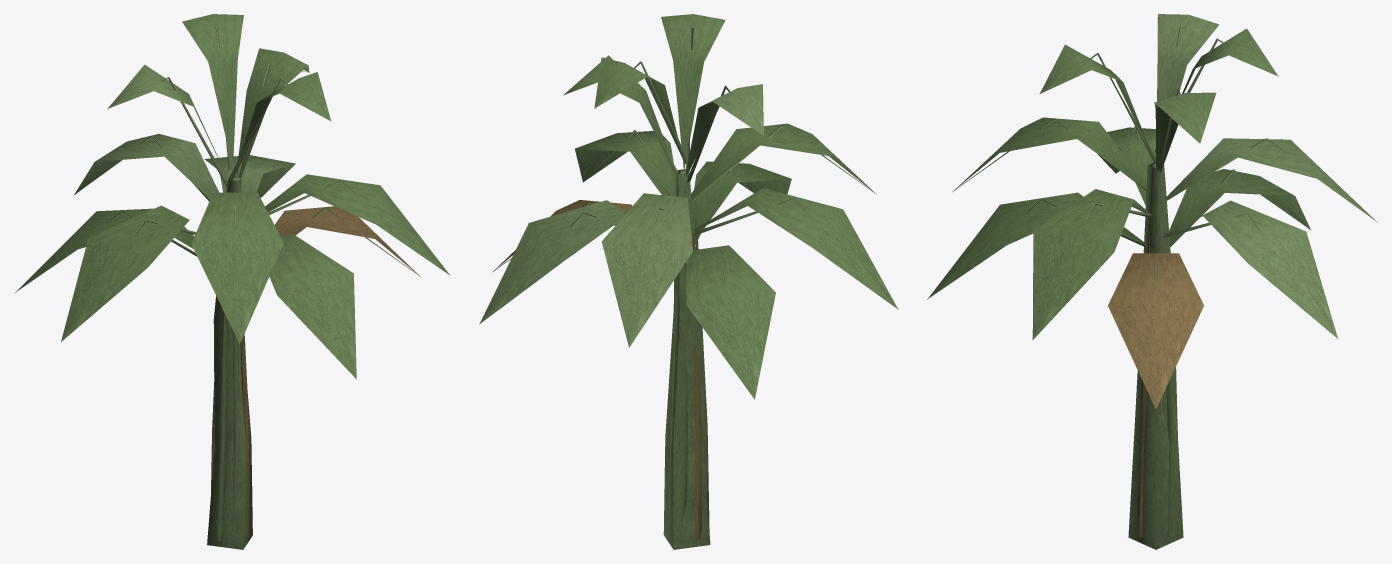
Rendered from prop_banana_tree_lod2.glb.
3 renders of one model, left to right at view 1: azimuth 30°, elevation 25°; view 2: azimuth 150°, elevation 25°; view 3: azimuth 270°, elevation 25°, orthographic. The views are drawn at different scales.
Visible parts, largest first — view 1: prop_banana_tree; view 2: prop_banana_tree; view 3: prop_banana_tree.
Boxes of the visible parts, box(x1,y1,x2,y2) form: prop_banana_tree: box(14, 14, 450, 549); prop_banana_tree: box(479, 14, 898, 549); prop_banana_tree: box(927, 14, 1377, 549).
Bounding box in the file's own units: 2.42 × 3 × 2.39.
3 materials, 3 textured.
